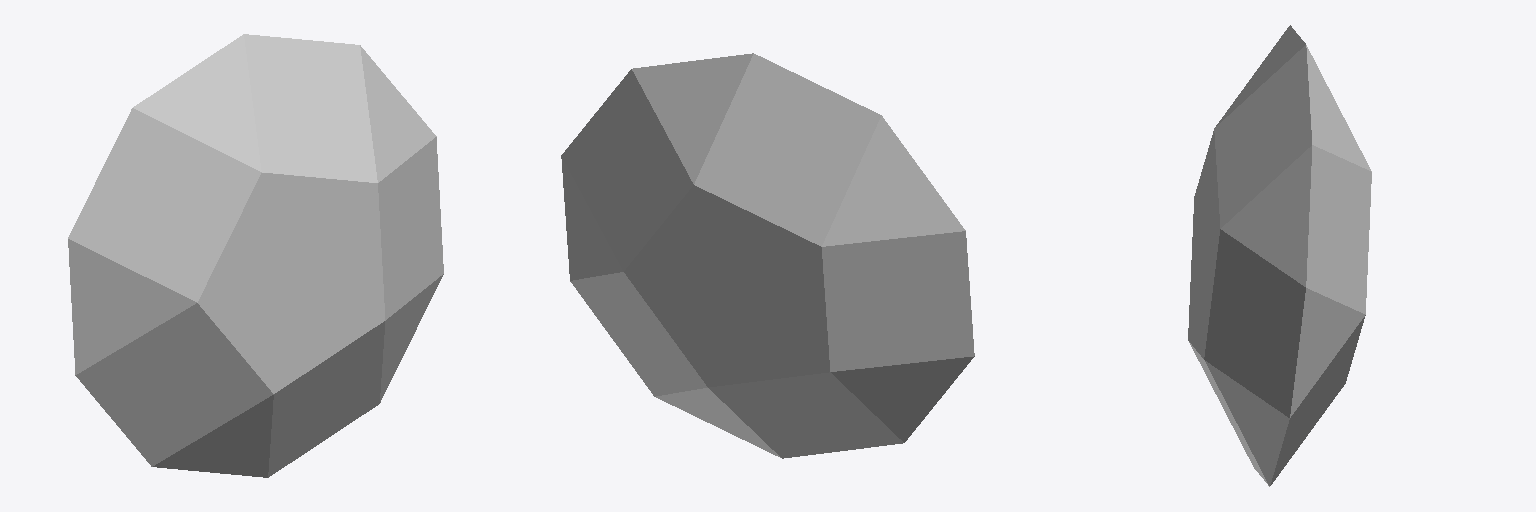
The model's file is PentagonalGyroBiCupola.obj.
The picture shows the model from 3 angles: view 1: azimuth 30°, elevation 25°; view 2: azimuth 150°, elevation 25°; view 3: azimuth 270°, elevation 25°; orthographic projection.
Parts seen in each view (by area): view 1: PentagonalGyroBiCupola; view 2: PentagonalGyroBiCupola; view 3: PentagonalGyroBiCupola.
Part boxes in pixels (x1,y1,x2,y2): PentagonalGyroBiCupola: (68,34,443,477); PentagonalGyroBiCupola: (561,53,974,458); PentagonalGyroBiCupola: (1188,25,1371,486).
Size of the model in its own units: 2.3 by 2.41 by 0.9482.